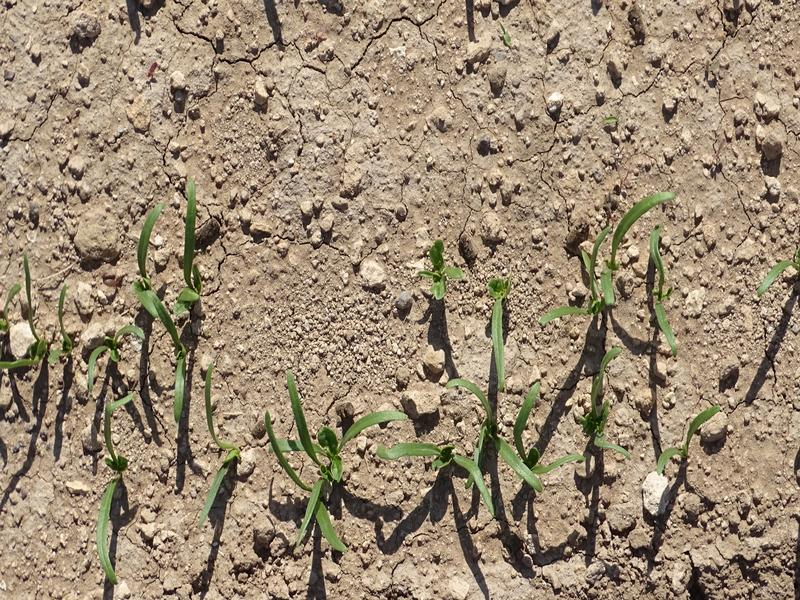Espinaca: (5, 172, 203, 418), (269, 374, 403, 552), (406, 375, 554, 508), (554, 202, 688, 342), (200, 370, 241, 520), (588, 353, 630, 458), (657, 403, 721, 471), (483, 279, 518, 373), (100, 421, 118, 577), (424, 244, 458, 300), (754, 258, 793, 295)
